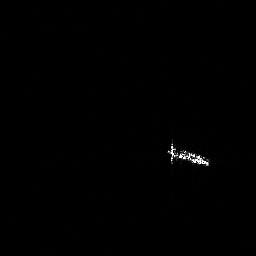ship: (164, 137, 214, 170)
